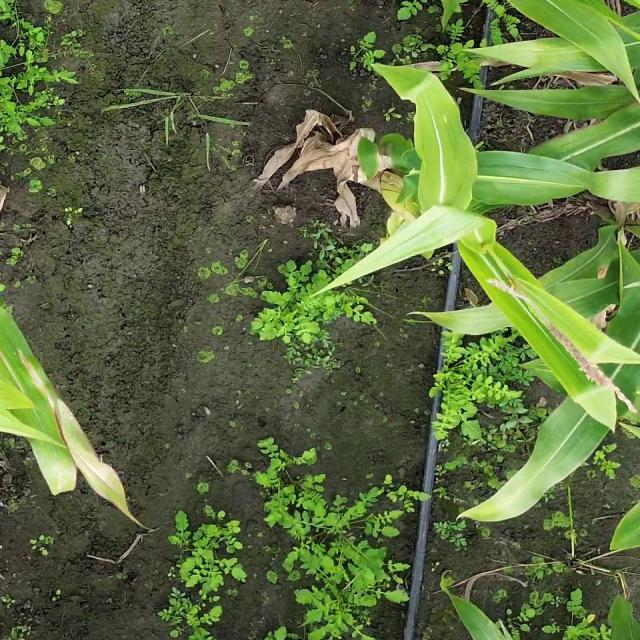northern-leaf-blight: (12, 346, 136, 516)
